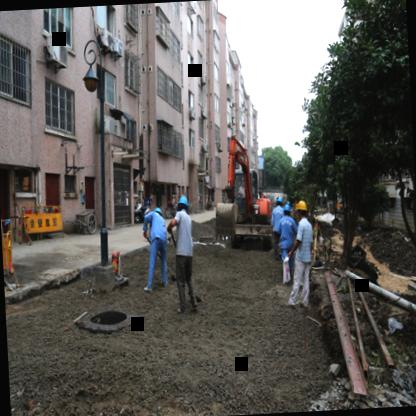helmet: (174, 192, 192, 216), (294, 195, 310, 220), (147, 200, 164, 223), (271, 194, 285, 210), (281, 203, 292, 219)
